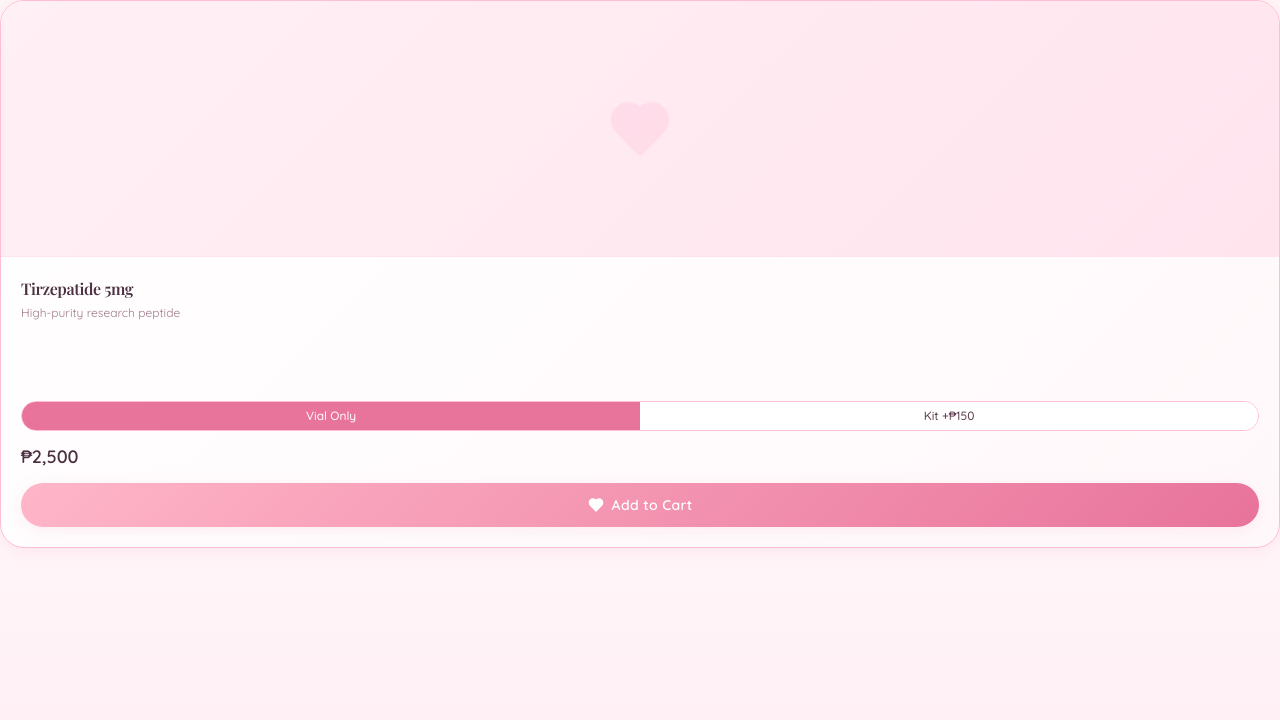
Scenario: MenuItemCard Component › Kit Toggle › updates price when toggling to complete kit
The image size is (1280, 720).
Expected: the text "₱2,500" is shown, [21, 443, 78, 471]
# Toggle to complete kit
Click the button "Kit +₱150". click: (949, 416)
box: [640, 402, 1258, 430]
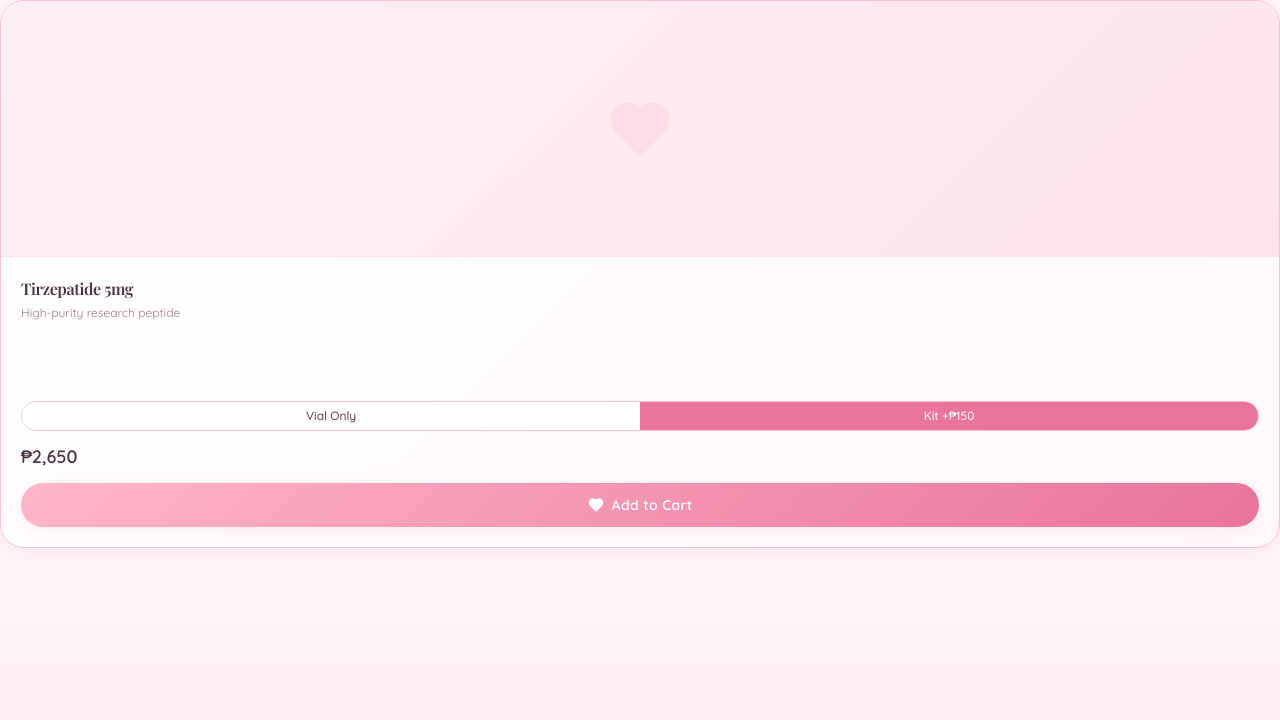
Now the text "₱2,650" is shown, box [21, 443, 78, 471]
